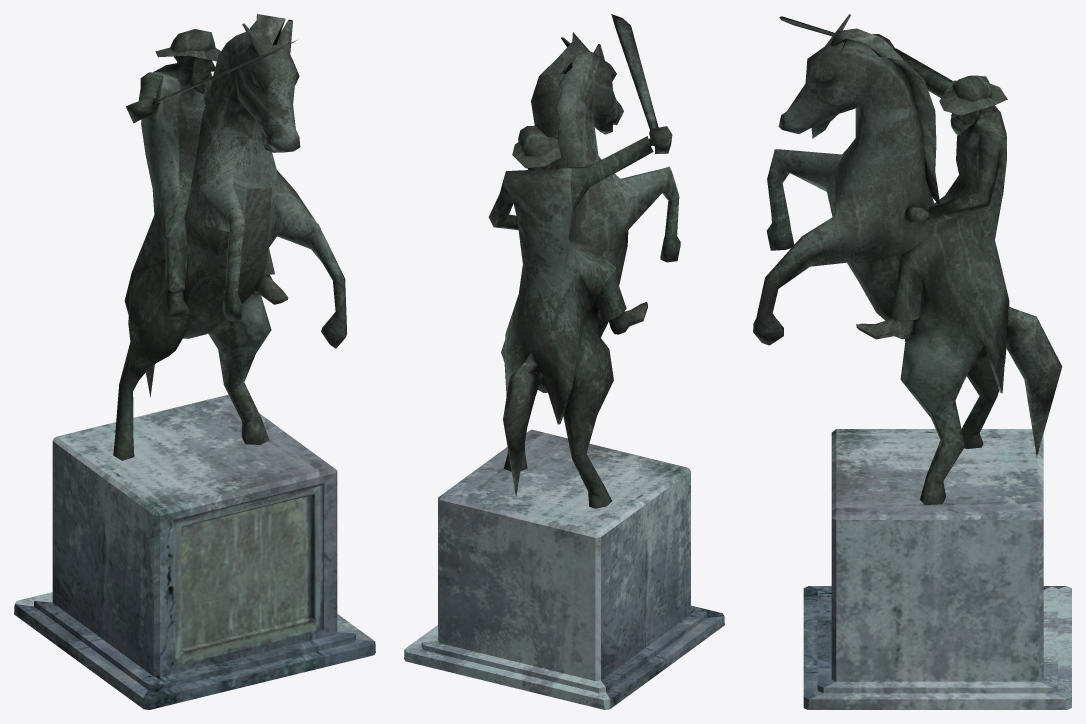
The model's file is Model_Statue_02.fbx.
The picture shows the model from 3 angles, left to right: view 1: azimuth 30°, elevation 25°; view 2: azimuth 150°, elevation 25°; view 3: azimuth 270°, elevation 25°; orthographic projection. The views are drawn at different scales.
Parts seen in each view (by area): view 1: Statue_Lee; view 2: Statue_Lee; view 3: Statue_Lee.
Boxes of the visible parts, <box> form: Statue_Lee: <box>14,14,375,709</box>; Statue_Lee: <box>404,14,724,709</box>; Statue_Lee: <box>753,14,1071,709</box>.
Size of the model in its own units: 186 by 494 by 221.
